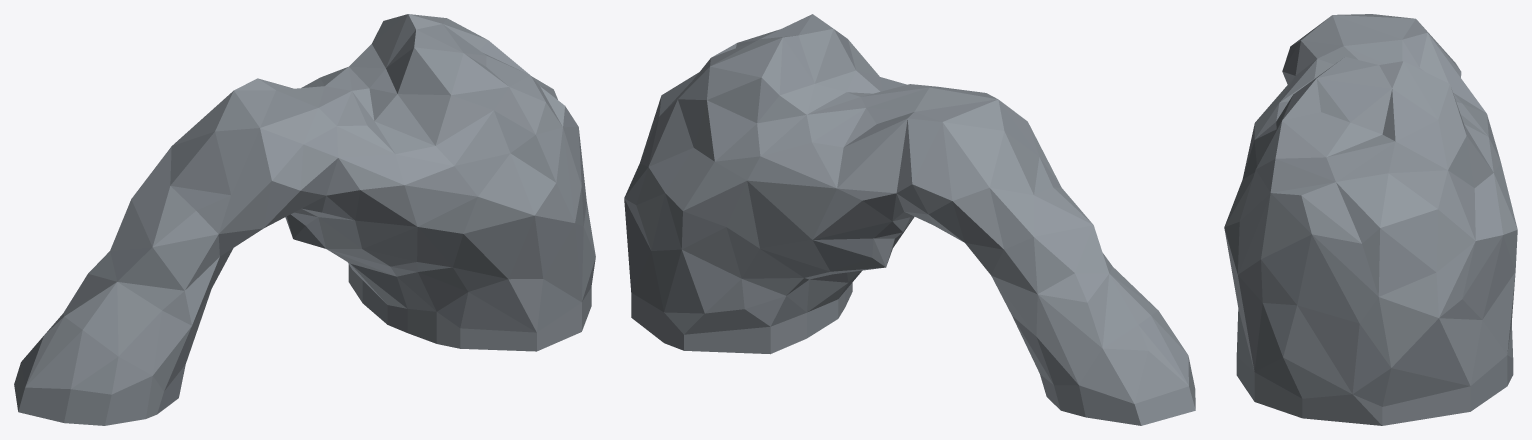
The model's file is Rock_Arch_04.fbx.
3 views of the same model, side by side, from view 1: azimuth 30°, elevation 25°; view 2: azimuth 150°, elevation 25°; view 3: azimuth 270°, elevation 25° (orthographic). The views are drawn at different scales.
Visible parts, largest first — view 1: Rock_Arch_04; view 2: Rock_Arch_04; view 3: Rock_Arch_04.
Boxes of the visible parts, bbox=[...] form: Rock_Arch_04: bbox=[14, 14, 595, 425]; Rock_Arch_04: bbox=[624, 14, 1195, 425]; Rock_Arch_04: bbox=[1224, 14, 1517, 425].
Size of the model in its own units: 2014 by 997 by 907.
